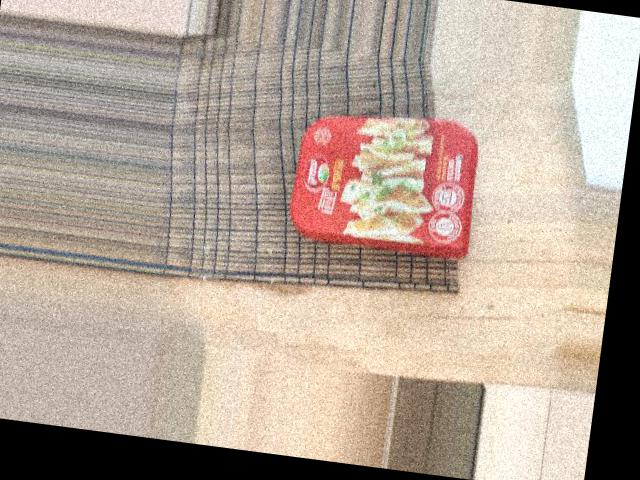cheese: (200, 36, 346, 247)
